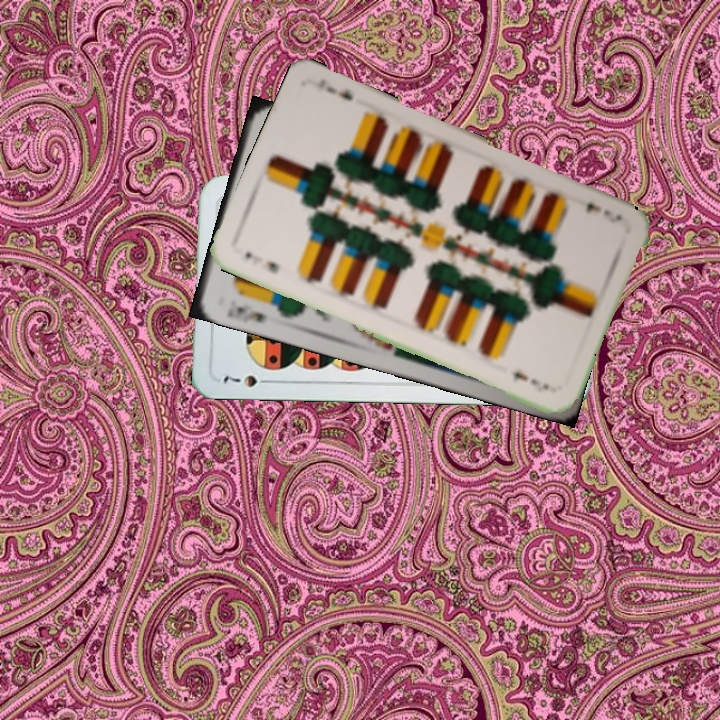E7: (241, 248, 282, 277), (582, 199, 625, 226)
EK: (222, 302, 270, 325)
S7: (219, 371, 275, 389)
